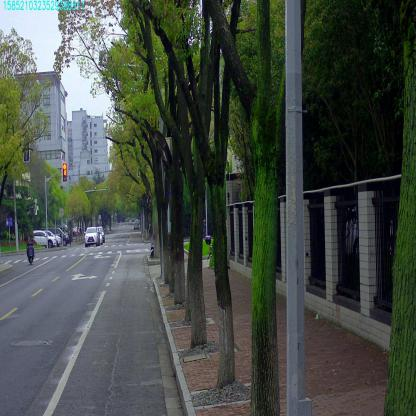traffic-light: (62, 163, 66, 181)
